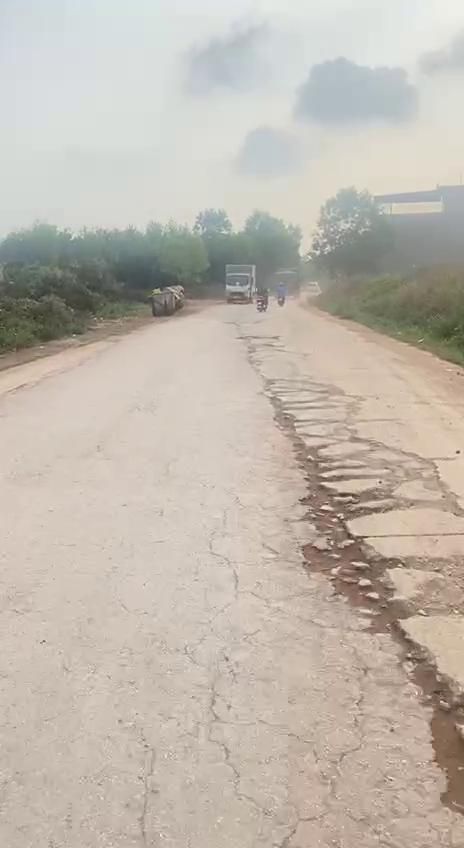pothole: (301, 536, 464, 818), (273, 410, 464, 552)
